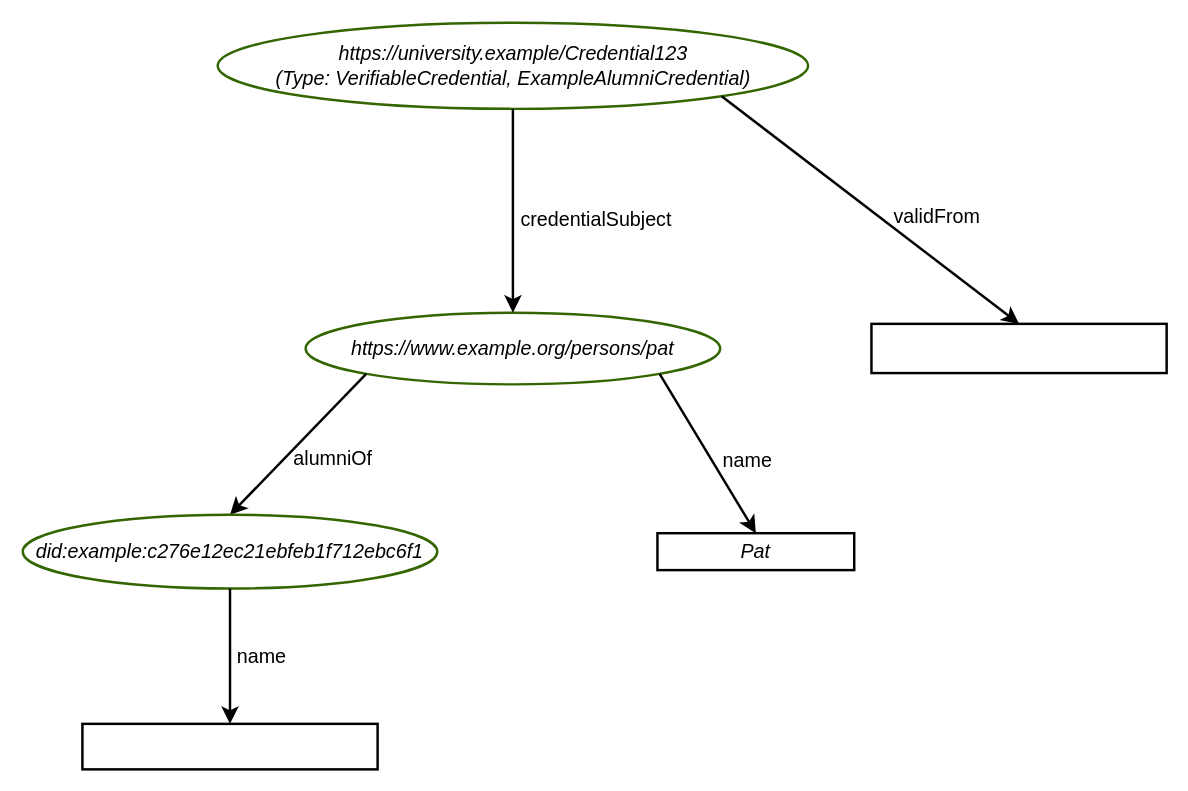
This 1188x791 diagram has some shape labels left out. The shapes that lost their labels are listed below. From the top down, each one's centre as x and y in pixels, then its label:
At (x=1018, y=348): "2010-01-01T00:00:00Z".
At (x=229, y=746): "Example University".
